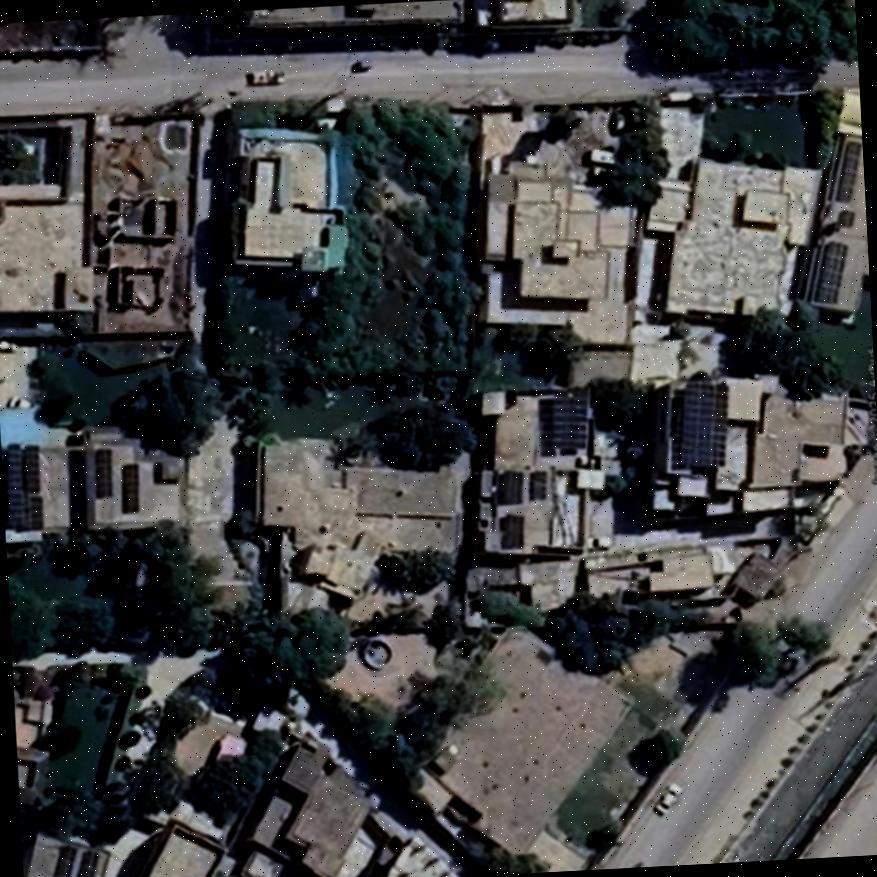Solarpanel: (679, 380, 727, 464), (0, 442, 42, 532), (813, 242, 849, 304), (552, 386, 585, 450), (836, 144, 859, 200), (120, 462, 138, 513), (95, 448, 112, 498), (51, 846, 74, 877), (78, 854, 99, 877)
